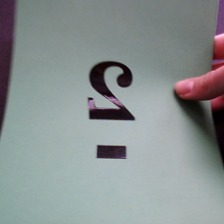green2: (78, 54, 140, 164)
